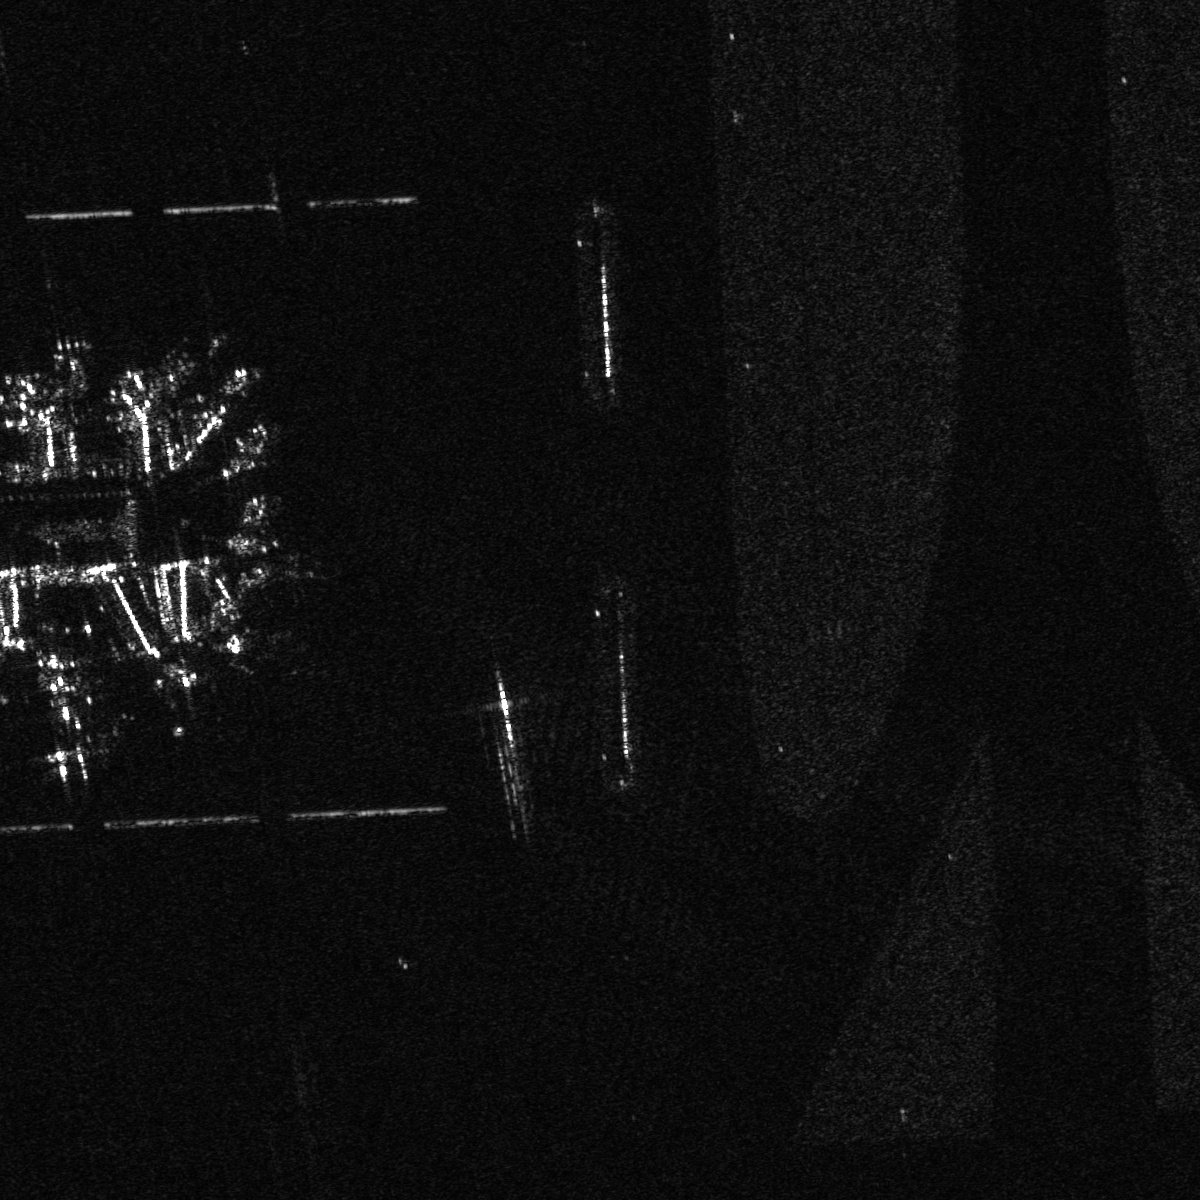Boeing737: (146, 653, 214, 742)
other: (27, 671, 115, 787)
